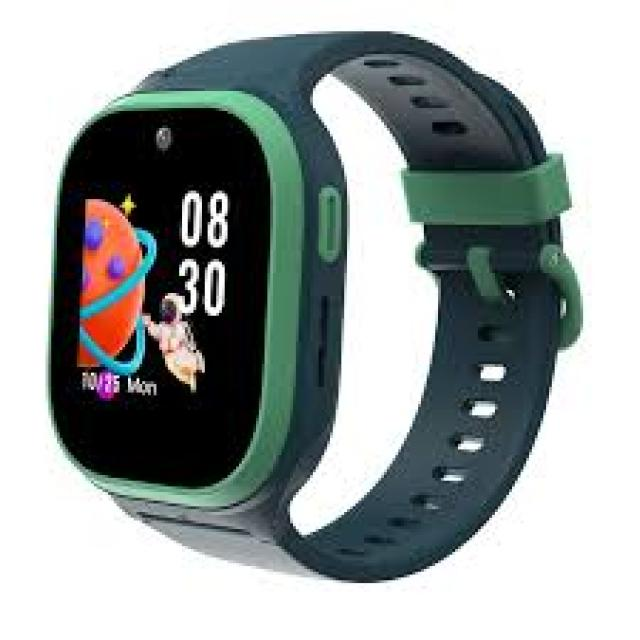objects: (51, 31, 580, 580)
